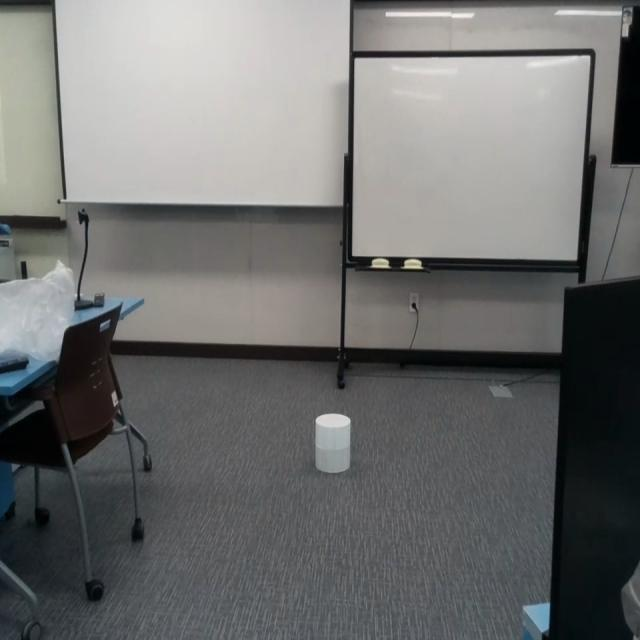cylinder: (315, 414, 351, 474)
